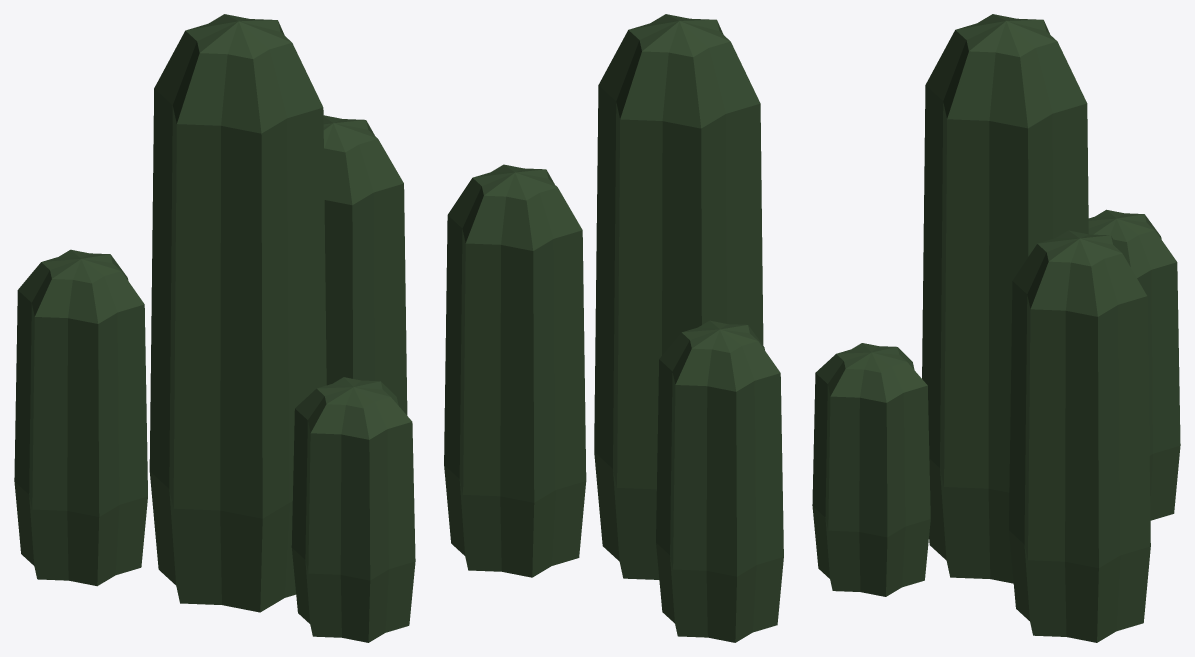
File: cactus_b.fbx
3 renders of one model, left to right at view 1: azimuth 30°, elevation 25°; view 2: azimuth 150°, elevation 25°; view 3: azimuth 270°, elevation 25°, orthographic. The views are drawn at different scales.
Parts seen in each view (by area): view 1: cactus_b; view 2: cactus_b; view 3: cactus_b.
Part boxes in pixels (box(x1,y1,x2,y2)): cactus_b: box(14, 14, 415, 642); cactus_b: box(444, 14, 783, 642); cactus_b: box(812, 14, 1180, 642).
Bounding box in the file's own units: 1.6 × 2.4 × 1.5.
